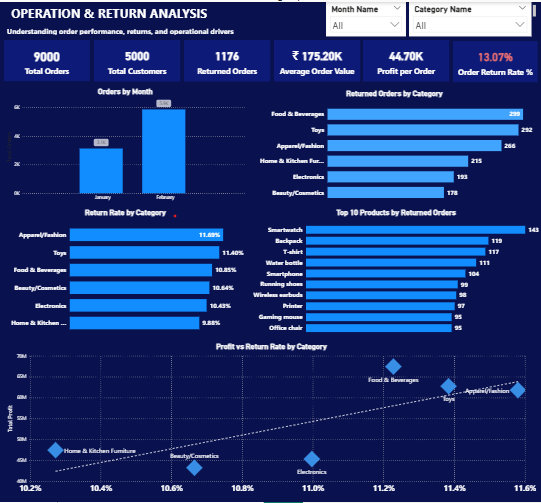

The dashboard page shown, as its layout file describes it:
{"tool":"powerbi","page":{"name":"Operations & Returns Analysis","canvas":[1410,1300],"ordinal":2},"visuals":[{"type":"textbox","box":[0,1.3,1400.6,57.7],"z":0},{"type":"textbox","box":[0,56.6,1500,32.7],"z":1000},{"type":"card","fields":{"Values":["Measures (2).Total Orders"]},"box":[12.9,100,222.9,107.1],"z":2000},{"type":"card","fields":{"Values":["Measures (2).Total Customers"]},"box":[246.2,100,223.8,107.5],"z":3000},{"type":"card","fields":{"Values":["Measures (2).Total Returned Orders"]},"box":[480,100,223.8,107.5],"z":4000},{"type":"card","fields":{"Values":["Measures (2).Average Order Value"]},"box":[713.8,100,223.8,107.5],"z":5000},{"type":"card","fields":{"Values":["Measures (2).Profit per Order"]},"box":[947.5,100,223.8,107.5],"z":6000},{"type":"card","fields":{"Values":["Measures (2).Return Rate"]},"box":[1180.6,100.6,220,107.3],"z":7000},{"type":"lineClusteredColumnComboChart","title":"Orders by Month","fields":{"Category":["DimDate.Month Name"],"Y":["Measures (2).Total Orders"]},"box":[13.8,220,631.2,306.2],"z":8000},{"type":"clusteredBarChart","title":"Returned Orders by Category","fields":{"Category":["DimCategory.category_name"],"Y":["Measures (2).Total Returned Orders"]},"box":[654.7,225.4,745.9,305.9],"z":9000},{"type":"clusteredBarChart","title":"Return Rate by Category","fields":{"Category":["DimCategory.category_name"],"Y":["Measures (2).Category Order Return Rate %"]},"box":[14.3,535.7,631.4,340],"z":10000},{"type":"scatterChart","title":"Profit vs Return Rate by Category","fields":{"Category":["DimCategory.category_name"],"X":["Measures (2).Category Order Return Rate %"],"Y":["Measures (2).Total Profit"]},"box":[14.8,884.1,1385.9,403.8],"z":11000},{"type":"slicer","fields":{"Values":["DimDate.Month Name"]},"box":[850.6,0,207.9,88.5],"z":12000},{"type":"slicer","fields":{"Values":["DimCategory.category_name"]},"box":[1065.2,0,318,88.5],"z":13000},{"type":"clusteredBarChart","title":"Top 10 Products by Returned Orders","fields":{"Category":["DimProduct.product_name"],"Y":["Measures (2).Total Returned Orders"]},"box":[654.7,535.3,755.3,339.4],"z":14000}]}

Visuals, with their boxes in screenshot pixels (x1, y1, x2, y2), scaled from the page's 1410x1300 canvas onto the 541x503 screenshot:
textbox: 0/1/537/23
textbox: 0/22/540/35
card - Measures (2).Total Orders: 5/39/90/80
card - Measures (2).Total Customers: 94/39/180/80
card - Measures (2).Total Returned Orders: 184/39/270/80
card - Measures (2).Average Order Value: 274/39/360/80
card - Measures (2).Profit per Order: 364/39/449/80
card - Measures (2).Return Rate: 453/39/537/80
"Orders by Month" lineClusteredColumnComboChart: 5/85/247/204
"Returned Orders by Category" clusteredBarChart: 251/87/537/206
"Return Rate by Category" clusteredBarChart: 5/207/248/339
"Profit vs Return Rate by Category" scatterChart: 6/342/537/498
slicer - DimDate.Month Name: 326/0/406/34
slicer - DimCategory.category_name: 409/0/531/34
"Top 10 Products by Returned Orders" clusteredBarChart: 251/207/540/338
